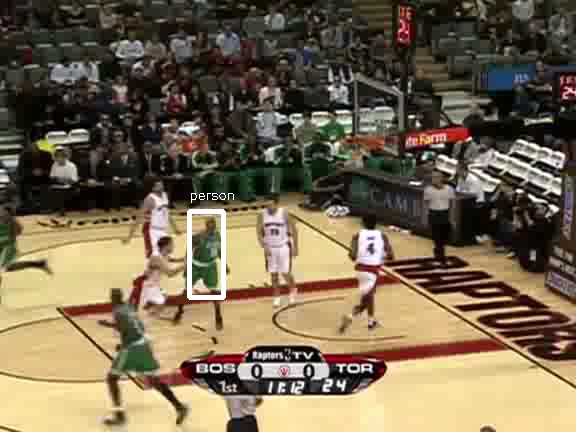person: (190, 217, 224, 298), (189, 217, 223, 298), (191, 217, 225, 298), (190, 216, 224, 297), (190, 218, 224, 299)
target_negative: (334, 100, 520, 236), (77, 305, 364, 381), (263, 252, 469, 331), (357, 240, 536, 293), (136, 256, 147, 299), (107, 395, 109, 409)
